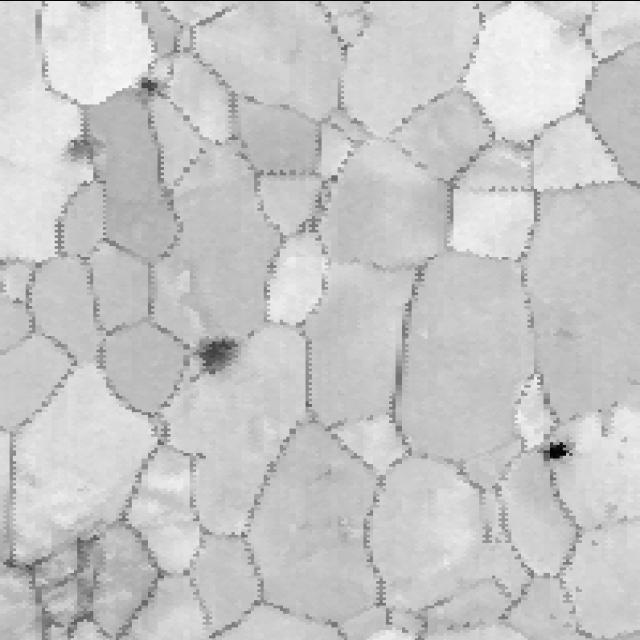good_void: (178, 307, 257, 376), (71, 536, 103, 614), (122, 71, 168, 112), (542, 312, 582, 351), (63, 127, 107, 159), (32, 602, 66, 638), (544, 434, 573, 471)
